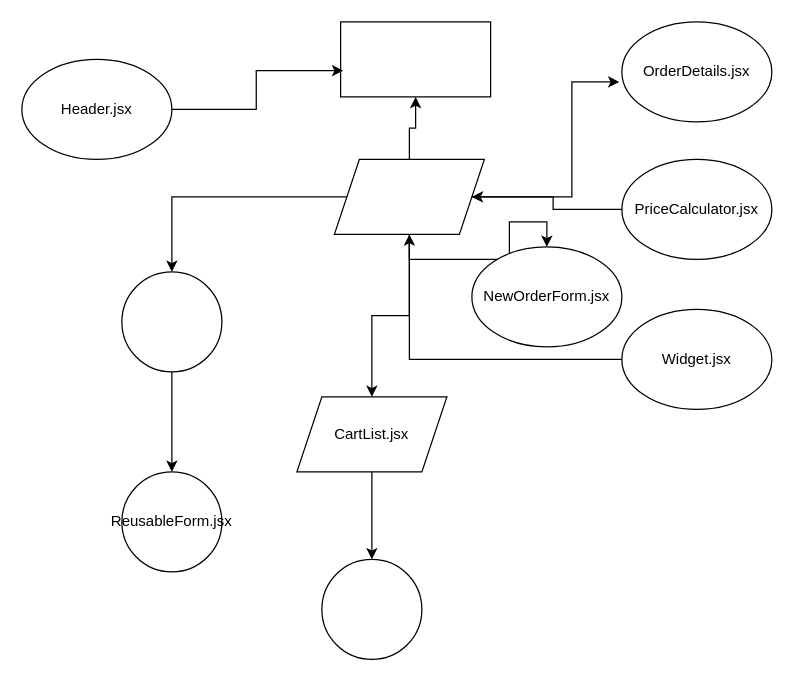
This 794x681 diagram has some shape labels left out. Each missing label, with the centre of its shape:
"App.jsx" goes at (x=415, y=59).
"CartControl.jsx" goes at (x=408, y=196).
"EditOrderForm.jsx" goes at (x=171, y=321).
"Order.jsx" goes at (x=371, y=608).
